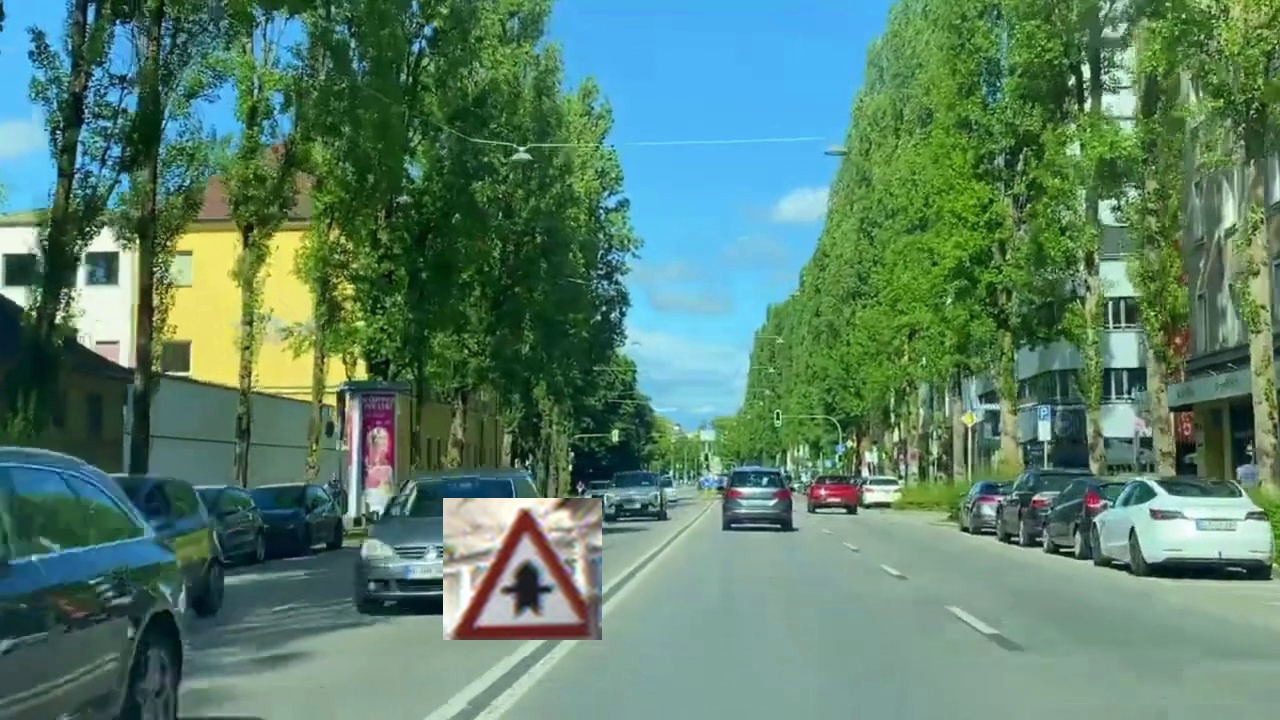Right-of-way: (443, 498, 602, 640)
